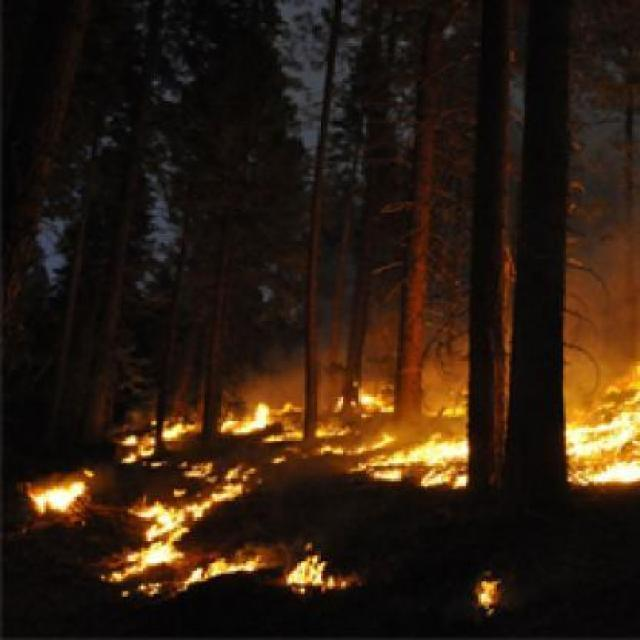Fire: (104, 369, 469, 623), (549, 332, 640, 508)
